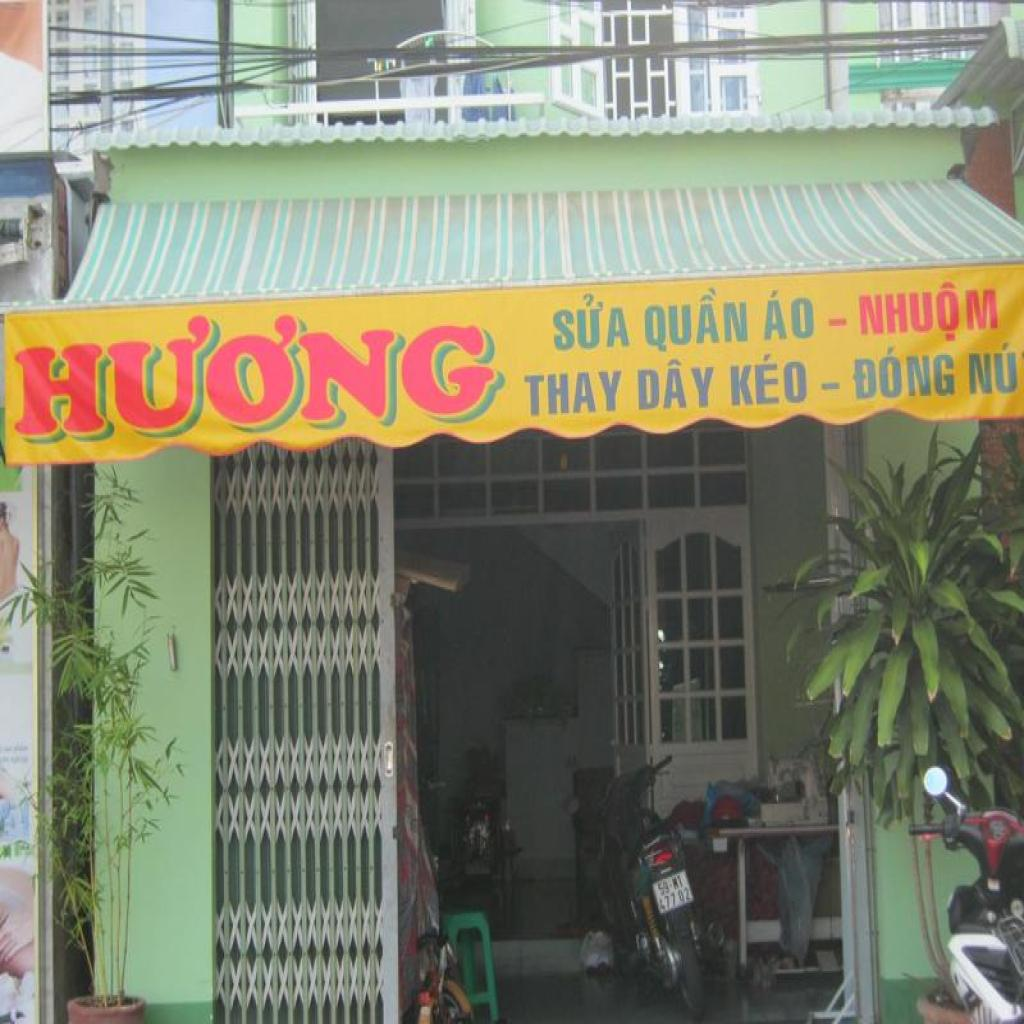text: (9, 299, 512, 449), (854, 273, 1006, 352), (639, 283, 754, 357), (850, 340, 957, 406), (518, 362, 628, 421), (545, 286, 635, 356), (726, 348, 814, 413), (635, 350, 719, 415), (758, 280, 823, 348), (962, 340, 1022, 398), (659, 884, 694, 915), (826, 310, 852, 334), (656, 879, 674, 898), (672, 874, 686, 892)
